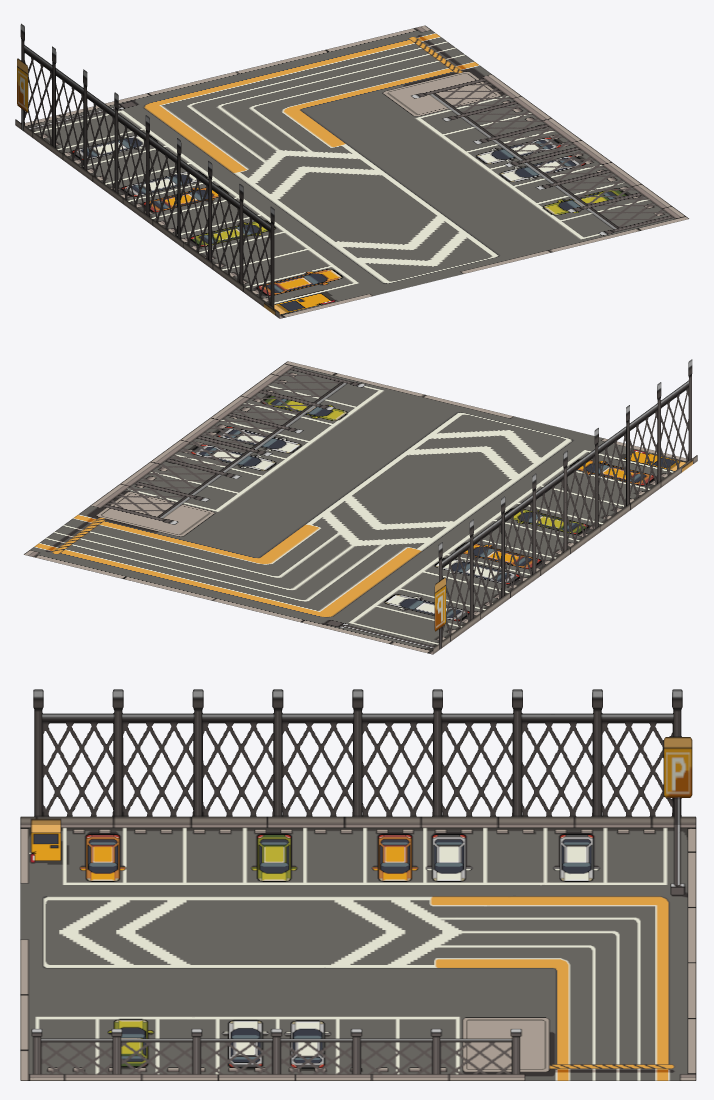
Rendered from Park.fbx.
3 views of the same model, one above another, from view 1: azimuth 30°, elevation 25°; view 2: azimuth 150°, elevation 25°; view 3: azimuth 270°, elevation 25° (orthographic). The views are drawn at different scales.
Visible parts, largest first — view 1: park; view 2: park; view 3: park.
Part boxes in pixels (x1,y1,x2,y2): park: (15, 23, 688, 318); park: (24, 359, 697, 654); park: (20, 689, 696, 1080).
Bounding box in the file's own units: 2249 × 567 × 2501.
Materials: 1 (1 with a texture image).
